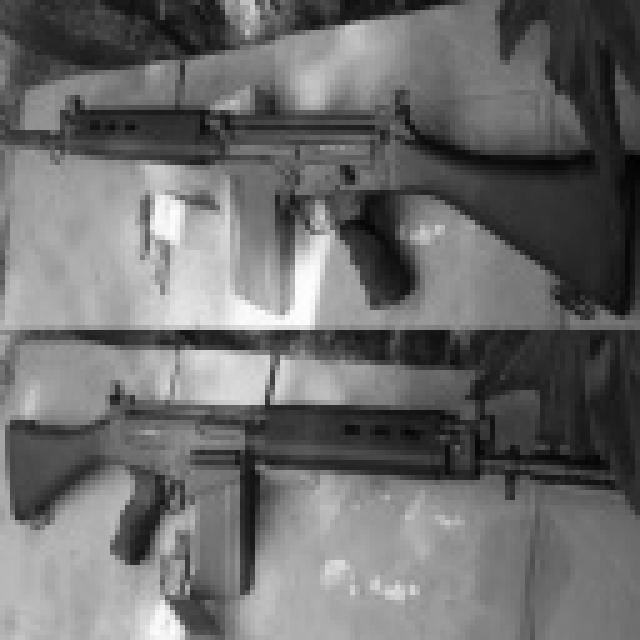Rifle: (0, 0, 640, 348), (18, 398, 640, 606)
